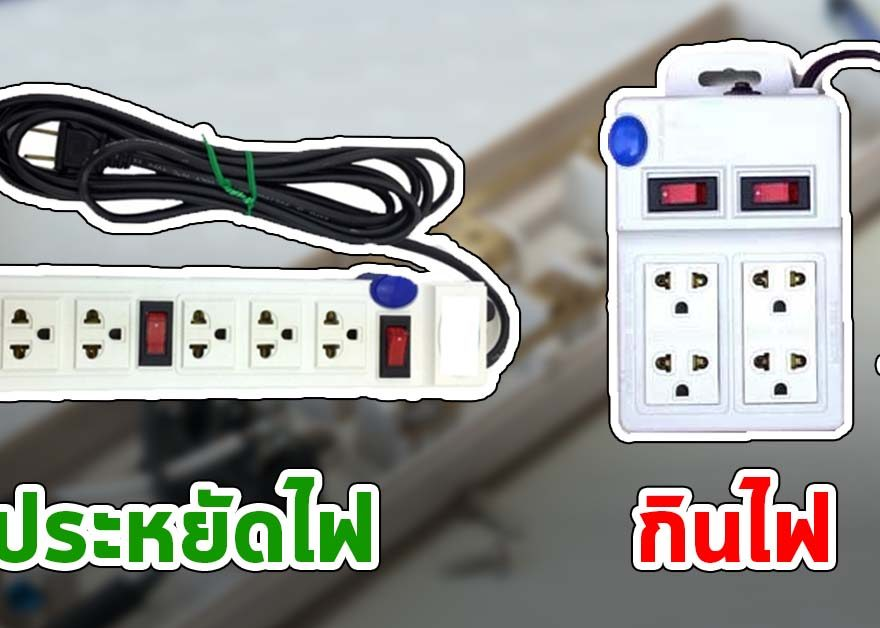Three_eye_plug: (594, 85, 871, 454), (1, 262, 508, 396)
